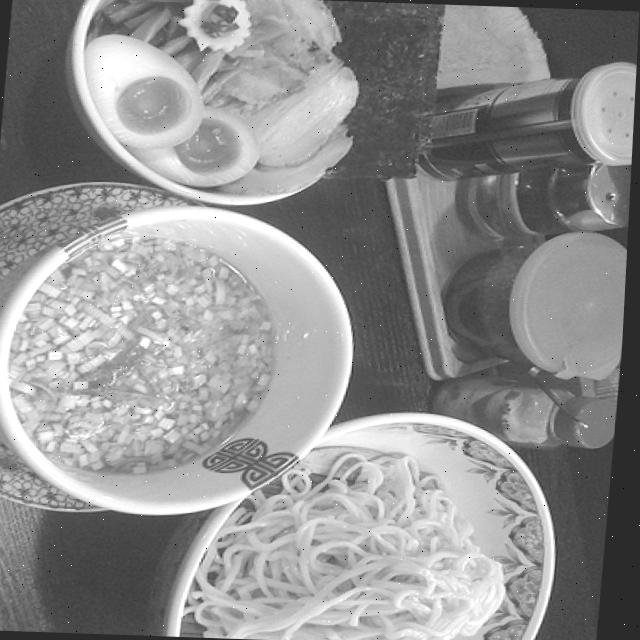面条主食: (0, 219, 551, 640)
